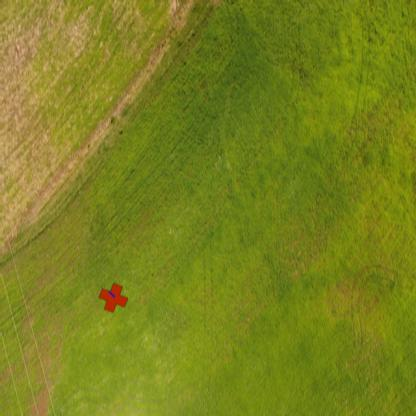I: (107, 288, 116, 300)
plus: (98, 282, 129, 312)
